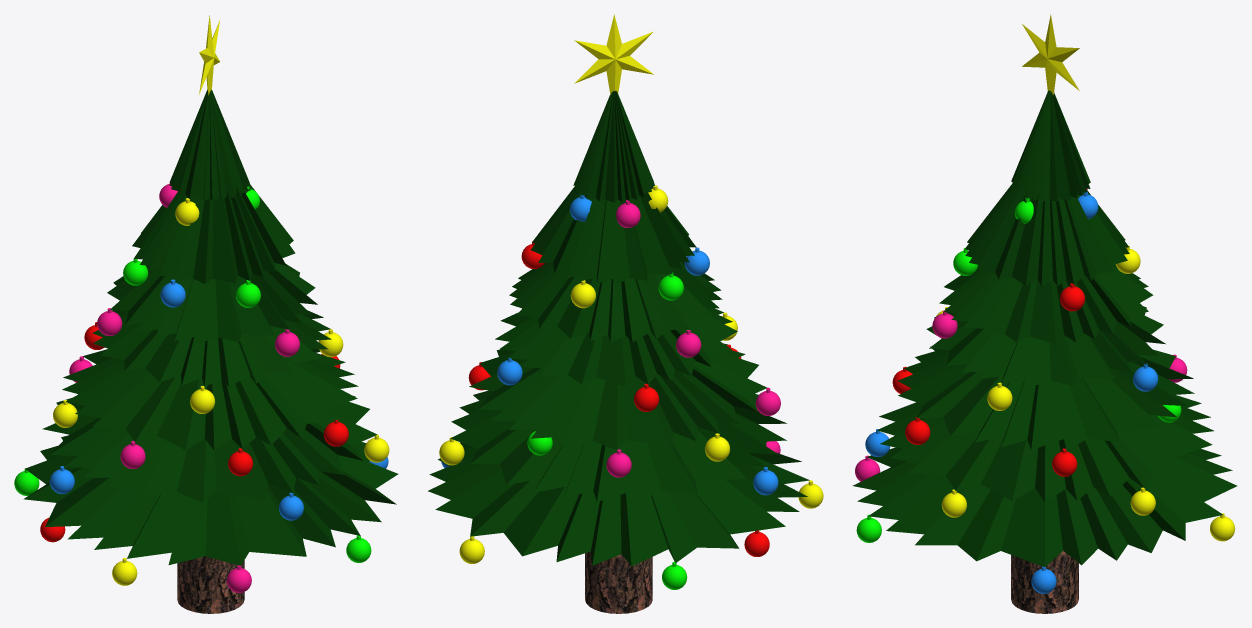
Rendered from christmastree.dae.
3 renders of one model, left to right at view 1: azimuth 30°, elevation 25°; view 2: azimuth 150°, elevation 25°; view 3: azimuth 270°, elevation 25°, orthographic.
Visible parts, largest first — view 1: group_0 (×7), SketchUp, group_34, group_21, group_18, group_17, group_15, group_16, group_19, group_11, group_24, group_20 (+5 smaller); view 2: group_0 (×7), SketchUp, group_34, group_6, group_24, group_9, group_18, group_8, group_27, group_30; view 3: group_0 (×7), SketchUp, group_34, group_9, group_1, group_2, group_4, group_5, group_11, group_3, group_16, group_12 (+2 smaller).
Boxes of the visible parts, x1,y1,x2,y2 form: group_0 (×7): [23, 89, 398, 565]; SketchUp: [177, 556, 244, 613]; group_34: [199, 15, 220, 95]; group_21: [160, 279, 185, 307]; group_18: [120, 441, 145, 468]; group_17: [112, 557, 137, 585]; group_15: [279, 492, 303, 520]; group_16: [346, 535, 371, 562]; group_19: [228, 448, 253, 476]; group_11: [364, 435, 389, 462]; group_24: [49, 466, 74, 494]; group_20: [190, 386, 215, 413]; group_0 (×7): [428, 91, 809, 566]; SketchUp: [585, 551, 652, 613]; group_34: [574, 14, 653, 94]; group_6: [606, 449, 631, 477]; group_24: [753, 467, 778, 495]; group_9: [459, 536, 484, 563]; group_18: [755, 387, 780, 415]; group_8: [570, 280, 595, 308]; group_27: [705, 433, 729, 461]; group_30: [634, 383, 659, 411]; group_0 (×7): [852, 90, 1237, 567]; SketchUp: [1011, 550, 1078, 613]; group_34: [1022, 14, 1079, 95]; group_9: [1210, 513, 1235, 541]; group_1: [1130, 487, 1155, 515]; group_2: [1052, 448, 1077, 476]; group_4: [1060, 283, 1085, 311]; group_5: [987, 382, 1012, 410]; group_11: [941, 489, 966, 517]; group_3: [1133, 363, 1158, 391]; group_16: [856, 514, 881, 542]; group_12: [905, 417, 930, 444].
Bounding box in the file's own units: 70.3 × 68.38 × 115.
Materials: 8 (1 with a texture image).
